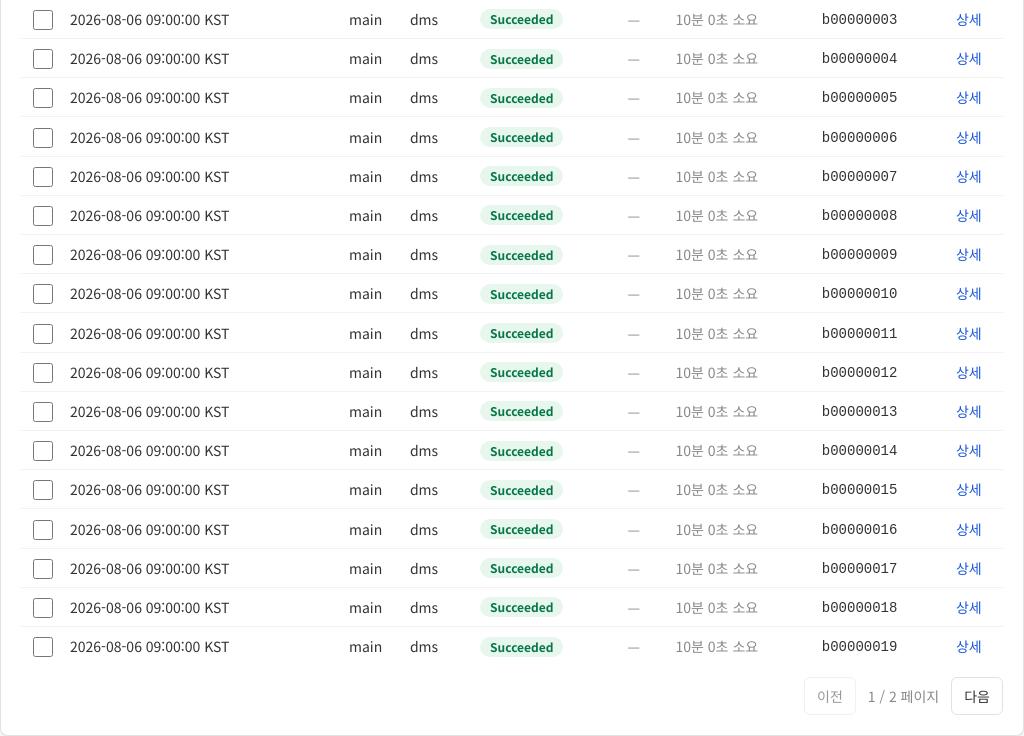
BuildHistory — 빌드 이력 › 20건 넘으면 페이지를 나눈다
(page scrolled)
Expected: the text "b00000020" is not shown
Expected: the text "1 / 2 페이지" is shown, [868, 686, 939, 706]
Click the button "다음" at [977, 696], box [951, 677, 1003, 715]
(page scrolled)
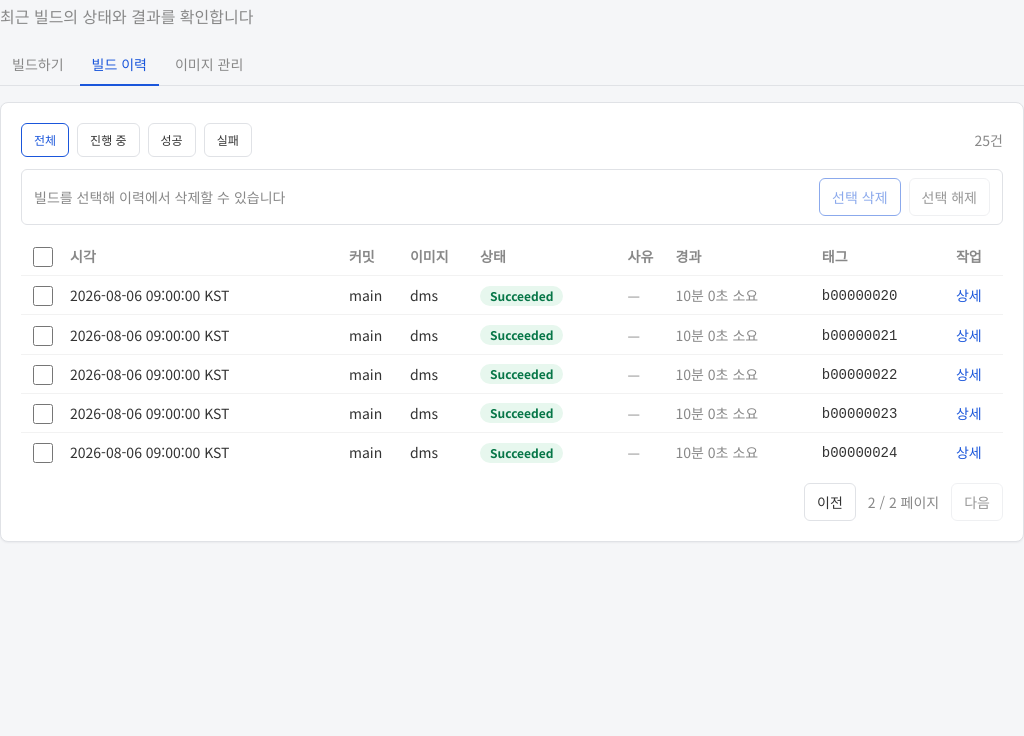
Expected: the text "b00000020" is shown, [822, 288, 897, 304]
